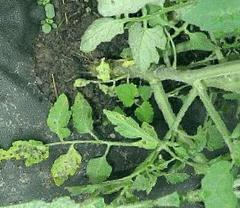Tomato Septoria leaf spot: (44, 140, 87, 191), (4, 132, 53, 169)
